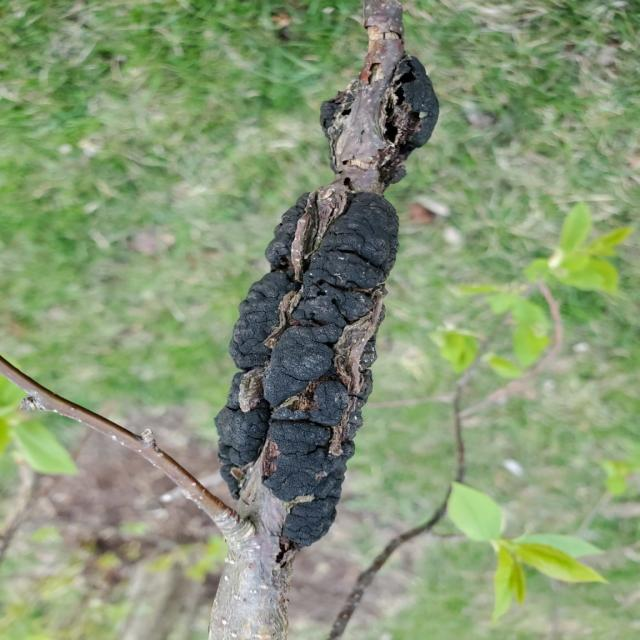Black_knot: (212, 3, 441, 550)
